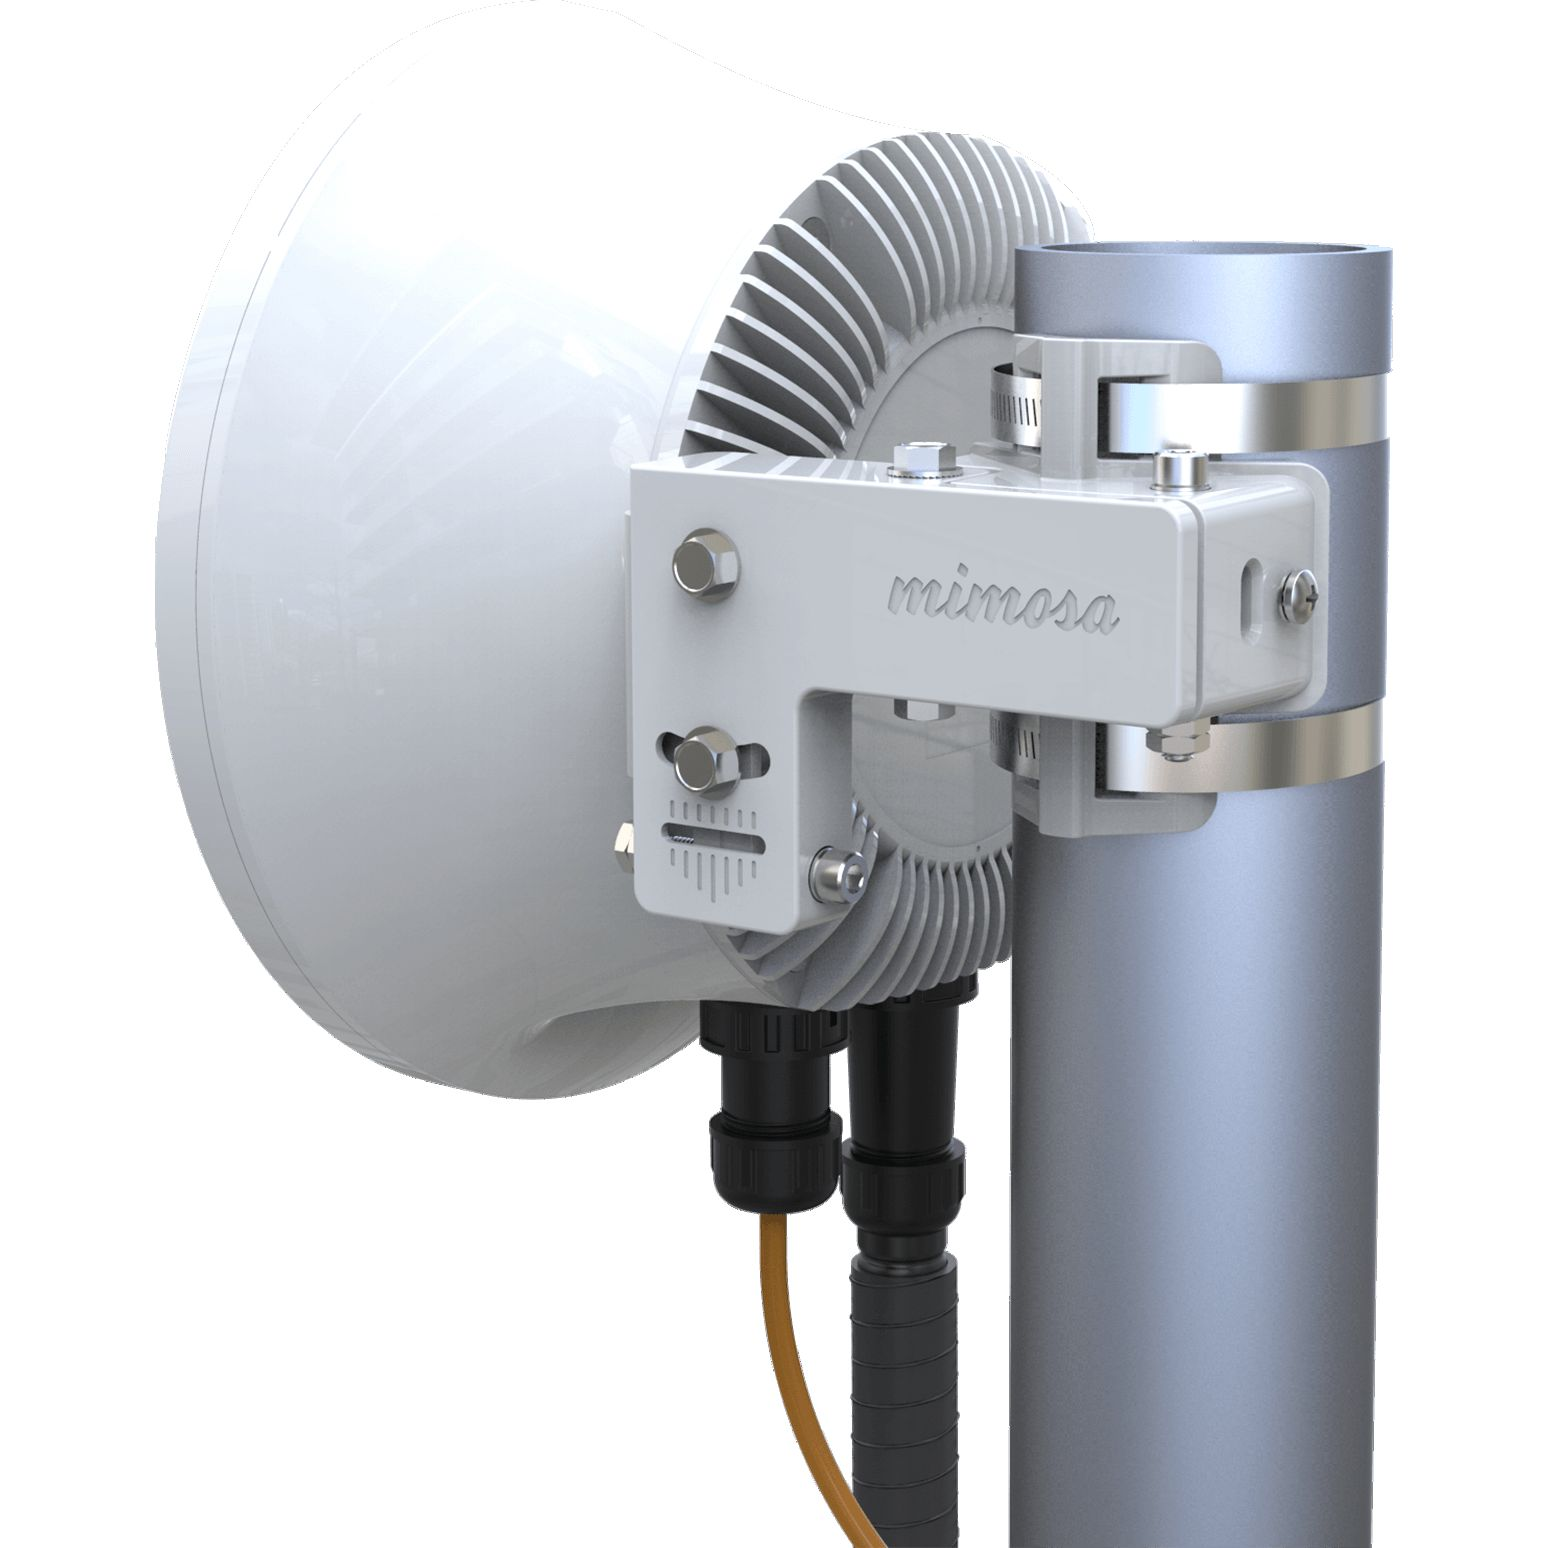ba: (183, 10, 1262, 1218)
